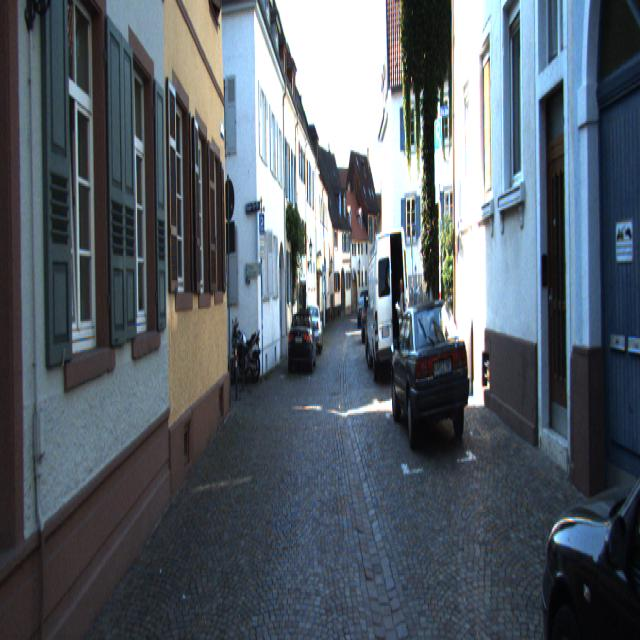Car: (532, 307, 640, 638), (388, 293, 470, 455), (365, 221, 410, 381), (227, 316, 262, 386), (288, 308, 316, 373), (304, 303, 323, 354)
